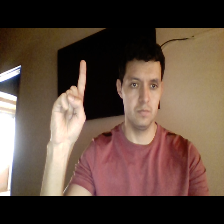2T: (45, 52, 89, 151)
